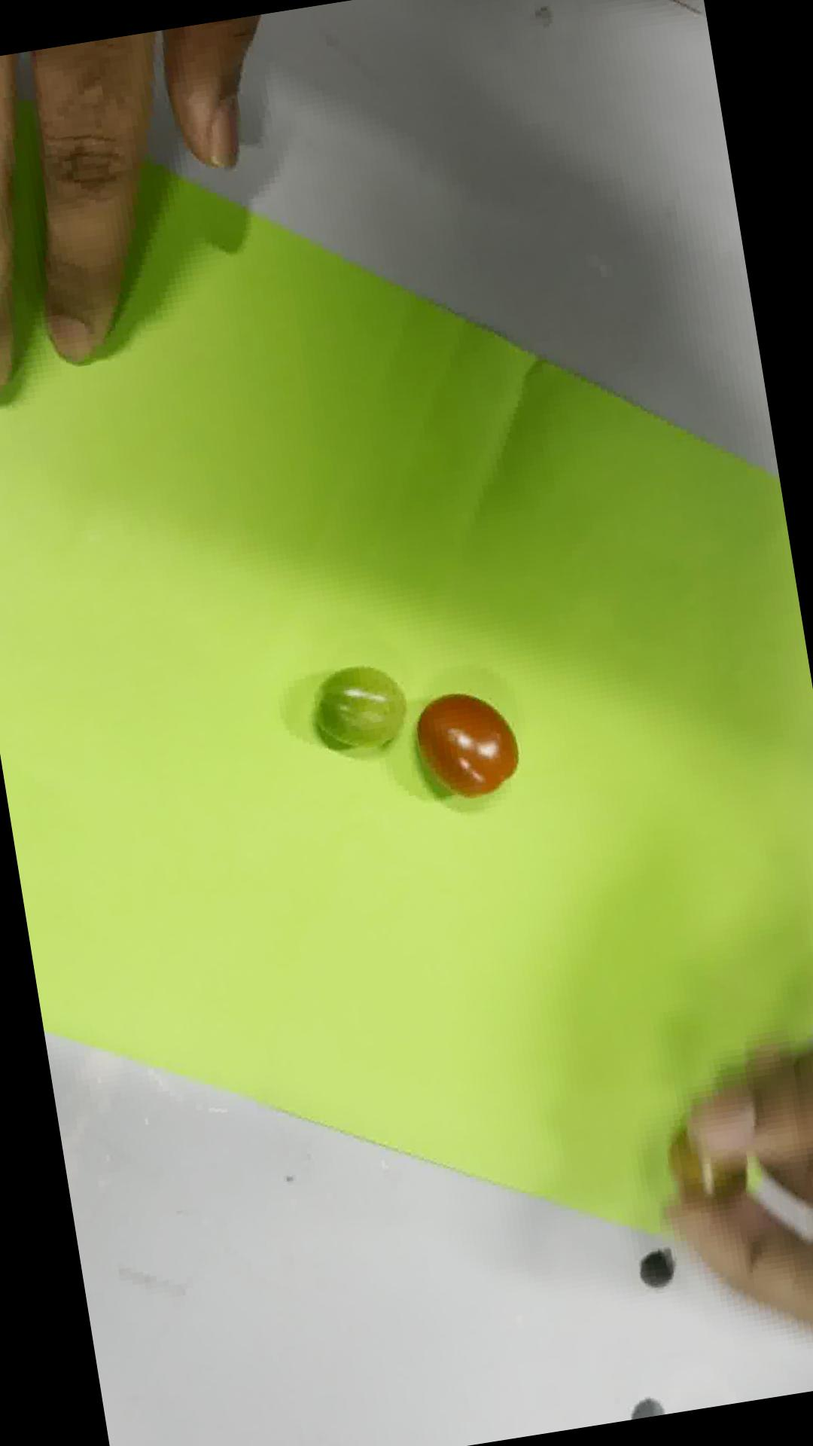green_cherry_tomato: (315, 666, 405, 747)
red_cherry_tomato: (416, 694, 518, 798)
